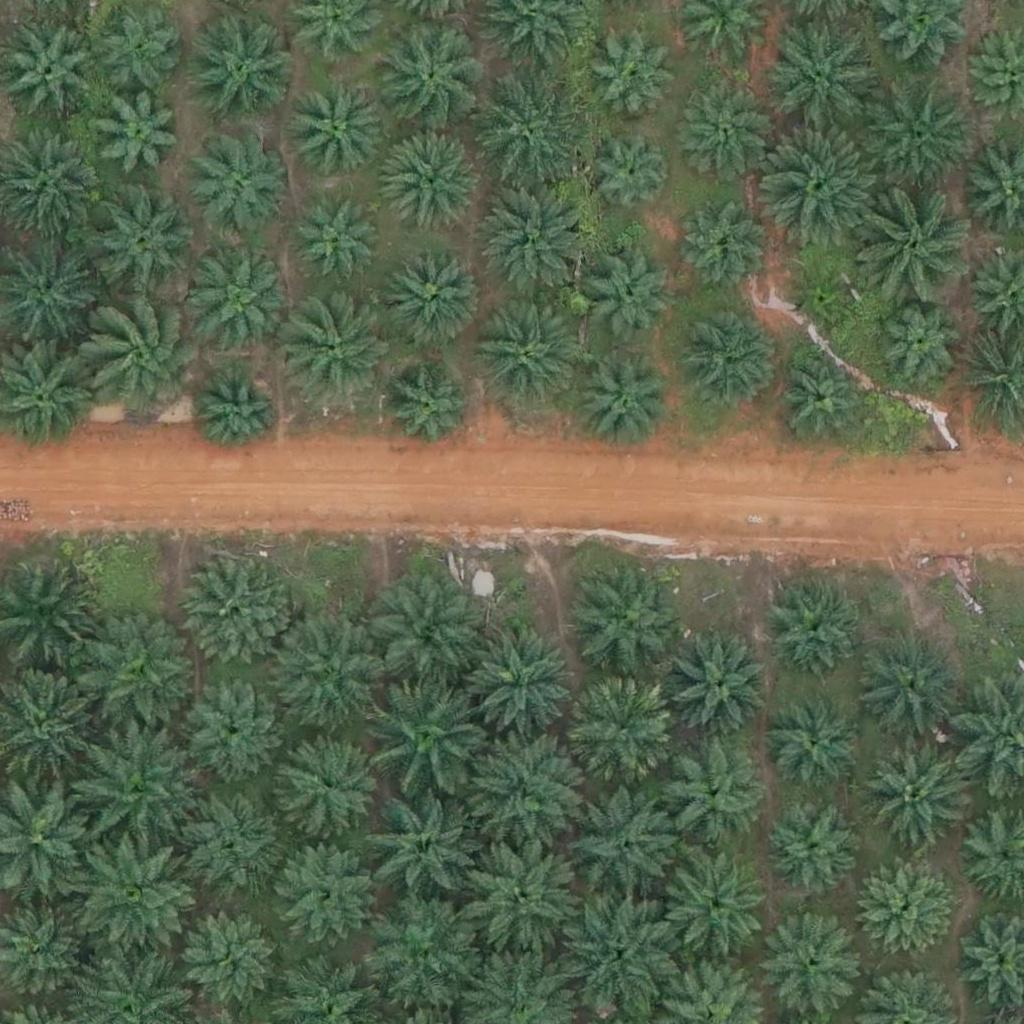Kelapa_Sawit: (83, 297, 208, 423), (569, 562, 682, 676), (467, 626, 580, 740), (467, 835, 580, 949), (366, 895, 479, 1009), (83, 836, 196, 950), (858, 185, 971, 299), (561, 890, 674, 1003), (565, 676, 678, 789), (463, 740, 576, 853), (373, 677, 486, 790), (180, 558, 293, 671), (78, 619, 191, 732), (857, 631, 969, 745), (654, 742, 766, 856), (568, 786, 680, 900), (277, 615, 389, 729), (469, 298, 581, 412), (367, 790, 479, 903), (371, 578, 483, 691), (171, 786, 283, 899), (81, 734, 193, 847), (861, 78, 973, 191), (766, 20, 878, 133), (763, 131, 875, 244), (472, 76, 584, 189), (480, 188, 592, 301), (374, 20, 486, 133), (284, 294, 396, 407), (83, 186, 195, 299), (764, 580, 864, 681), (667, 638, 767, 739), (665, 858, 765, 959), (279, 731, 379, 832), (176, 904, 276, 1005), (181, 672, 281, 773), (872, 293, 972, 394), (680, 311, 780, 412), (574, 355, 674, 456), (385, 246, 485, 347), (286, 82, 386, 183), (190, 22, 290, 123), (187, 131, 287, 232), (3, 27, 103, 128), (866, 750, 966, 850), (854, 862, 954, 962), (765, 915, 865, 1015), (762, 799, 862, 899), (765, 694, 865, 794), (278, 842, 378, 942), (384, 129, 484, 229), (192, 254, 292, 354), (681, 86, 769, 174), (590, 37, 678, 125), (586, 131, 674, 219), (386, 369, 474, 457), (778, 352, 865, 441), (298, 197, 385, 286), (679, 202, 766, 290), (586, 248, 673, 336), (193, 369, 280, 457), (97, 5, 184, 93), (94, 93, 181, 181), (794, 270, 857, 333)
